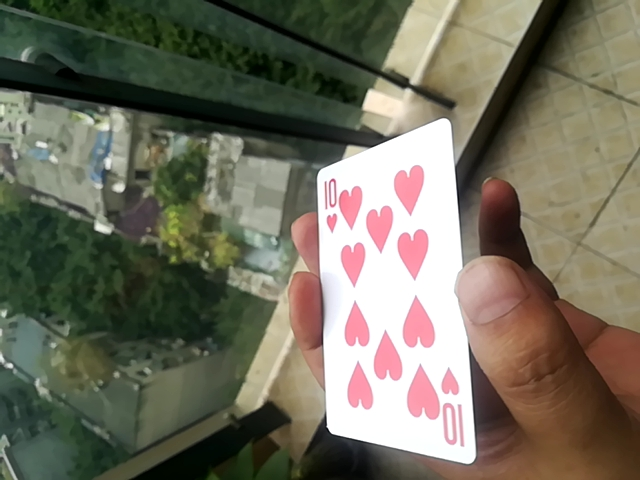hx 10: (311, 113, 472, 470)
